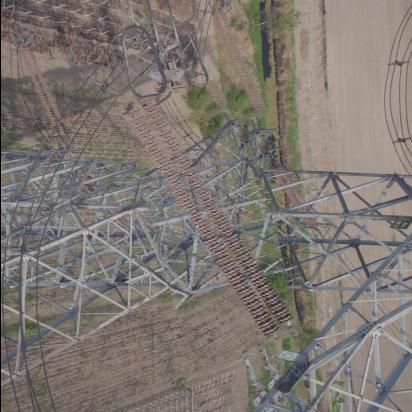insulator: (137, 81, 287, 361), (216, 5, 266, 121), (21, 42, 70, 146)
